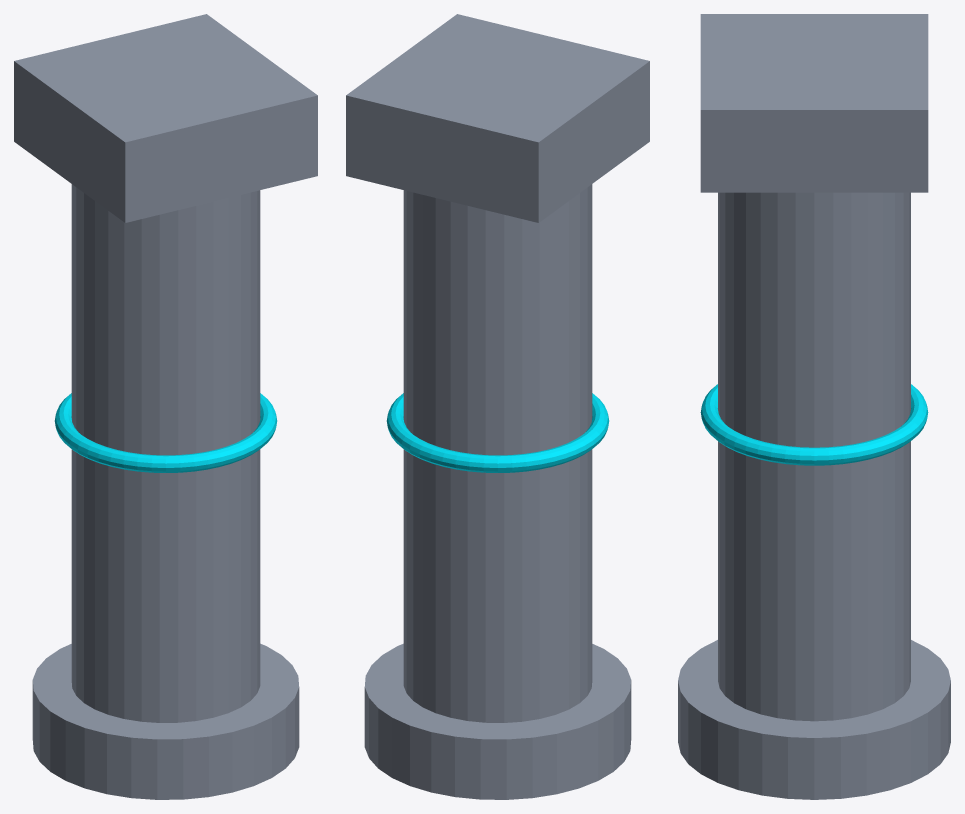
The model's file is arena_pillar.glb.
3 views of the same model, side by side, from view 1: azimuth 30°, elevation 25°; view 2: azimuth 150°, elevation 25°; view 3: azimuth 270°, elevation 25° (orthographic). The views are drawn at different scales.
Visible parts, largest first — view 1: Cylinder.001, Cube, Cylinder, Torus; view 2: Cylinder.001, Cube, Cylinder, Torus; view 3: Cylinder.001, Cube, Cylinder, Torus.
Part boxes in pixels (box(x1,y1,x2,y2)): Cylinder.001: box(71, 184, 260, 722); Cube: box(14, 14, 317, 222); Cylinder: box(32, 643, 299, 799); Torus: box(54, 393, 277, 472); Cylinder.001: box(403, 184, 592, 722); Cube: box(346, 14, 649, 222); Cylinder: box(364, 643, 631, 799); Torus: box(386, 393, 609, 472); Cylinder.001: box(718, 192, 910, 721); Cube: box(700, 14, 928, 192); Cylinder: box(678, 640, 950, 799); Torus: box(700, 384, 928, 465).
Size of the model in its own units: 2.4 by 6.6 by 2.4.
